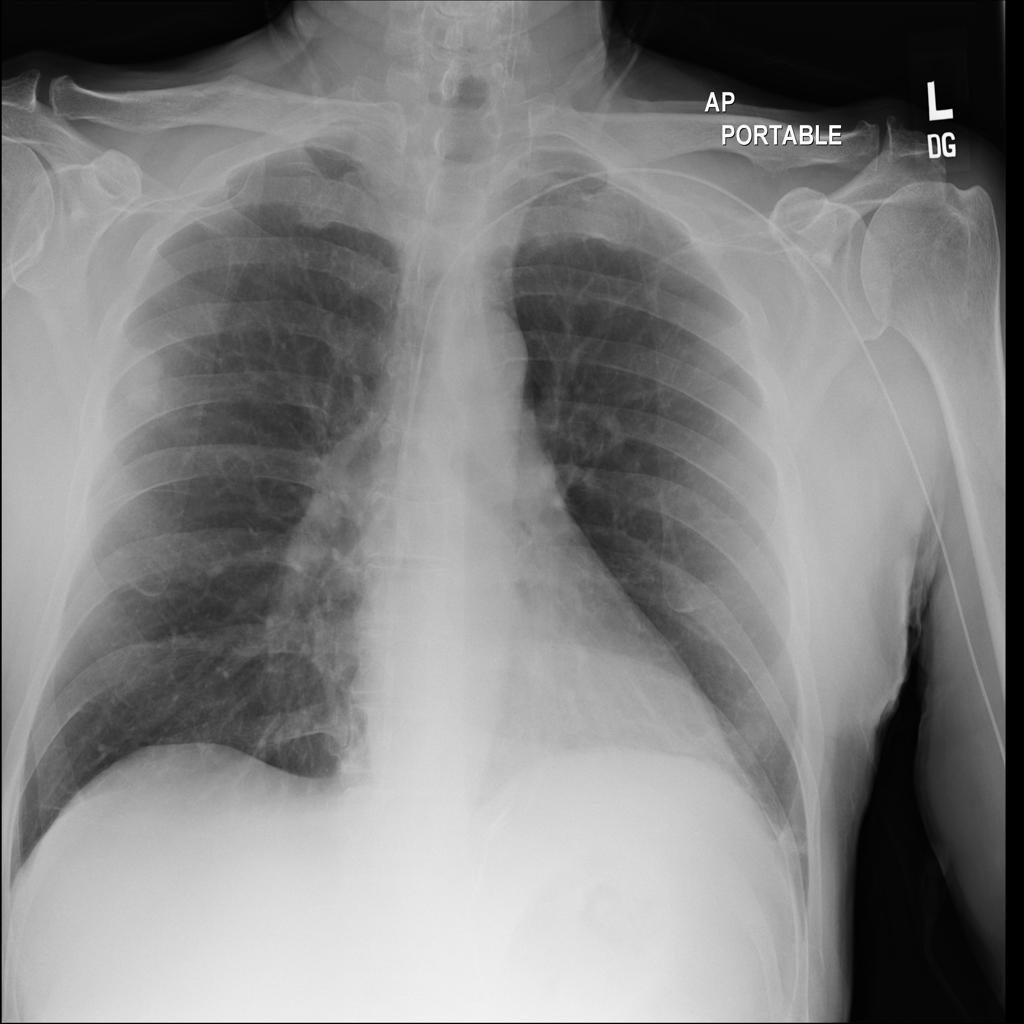nodule: (109, 336, 182, 422)
